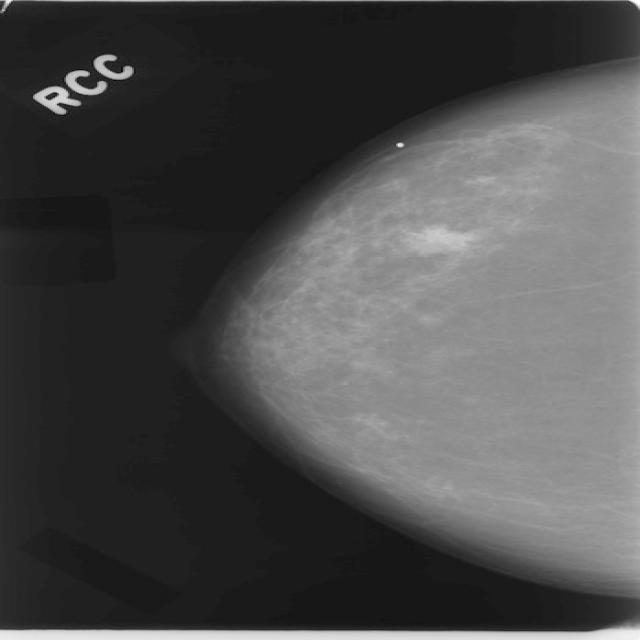tumour: (402, 222, 476, 255)
